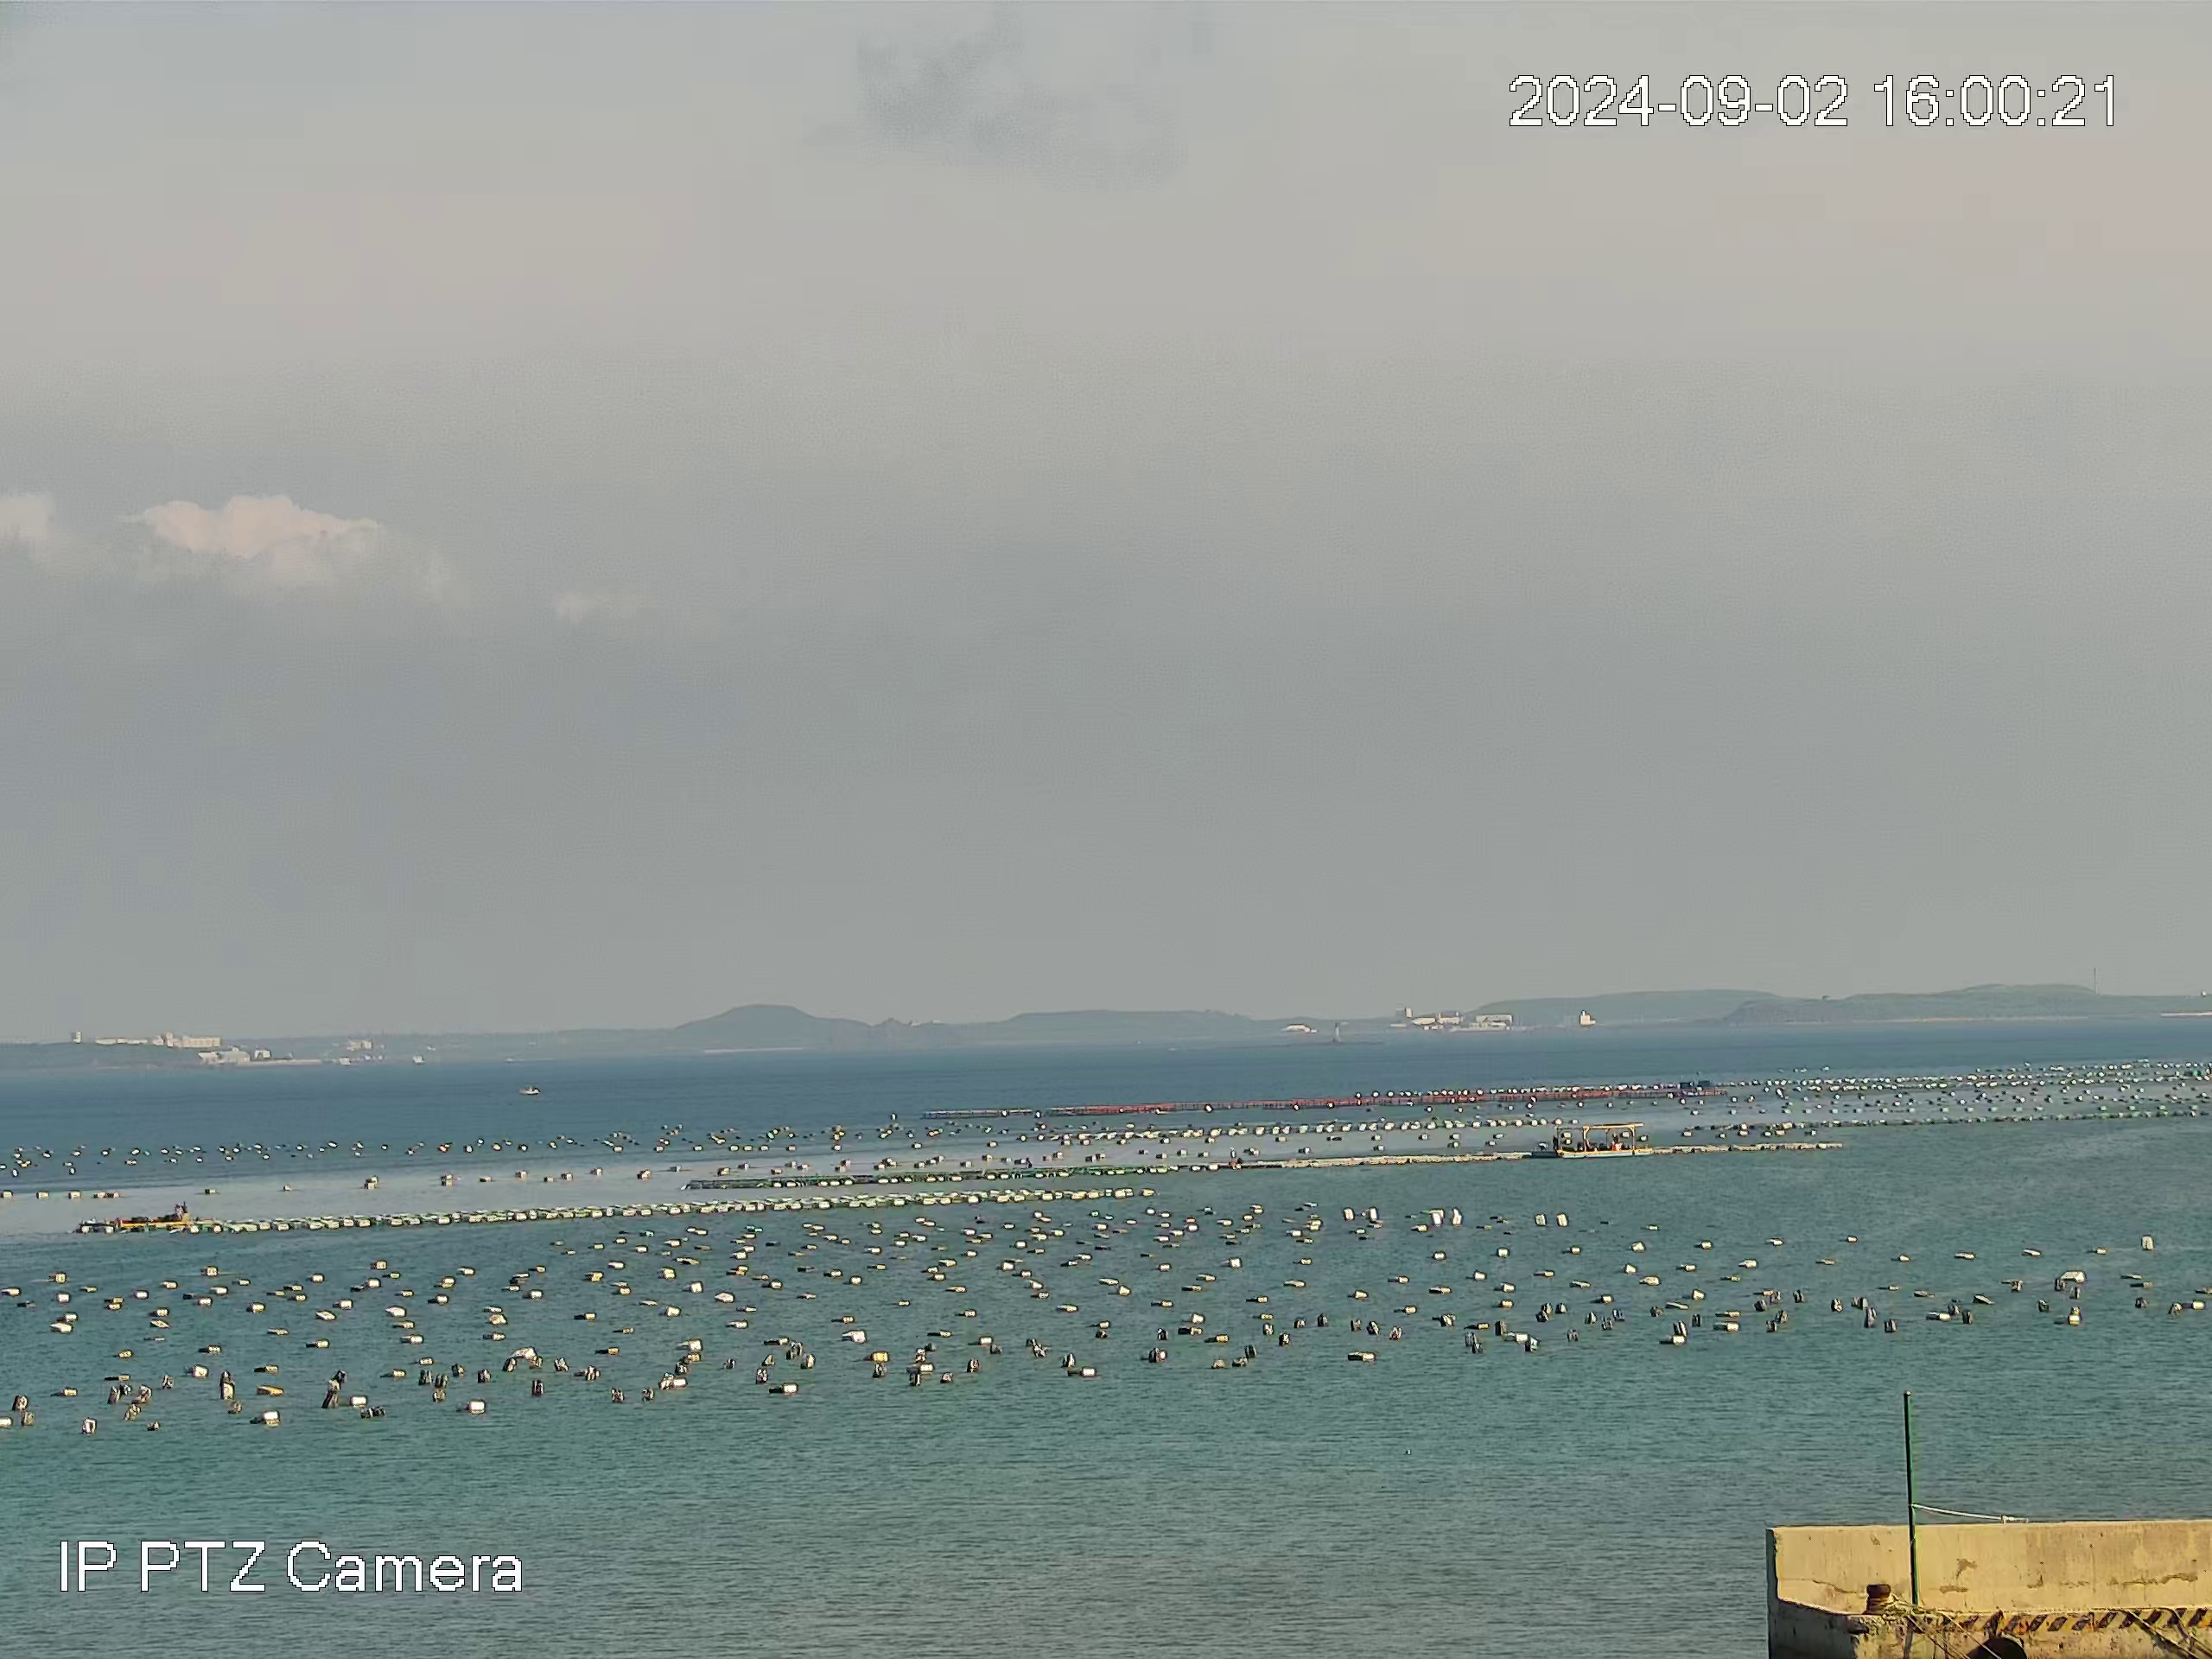boat: (1552, 1122, 1656, 1159), (103, 1201, 193, 1229), (517, 1084, 542, 1096)
